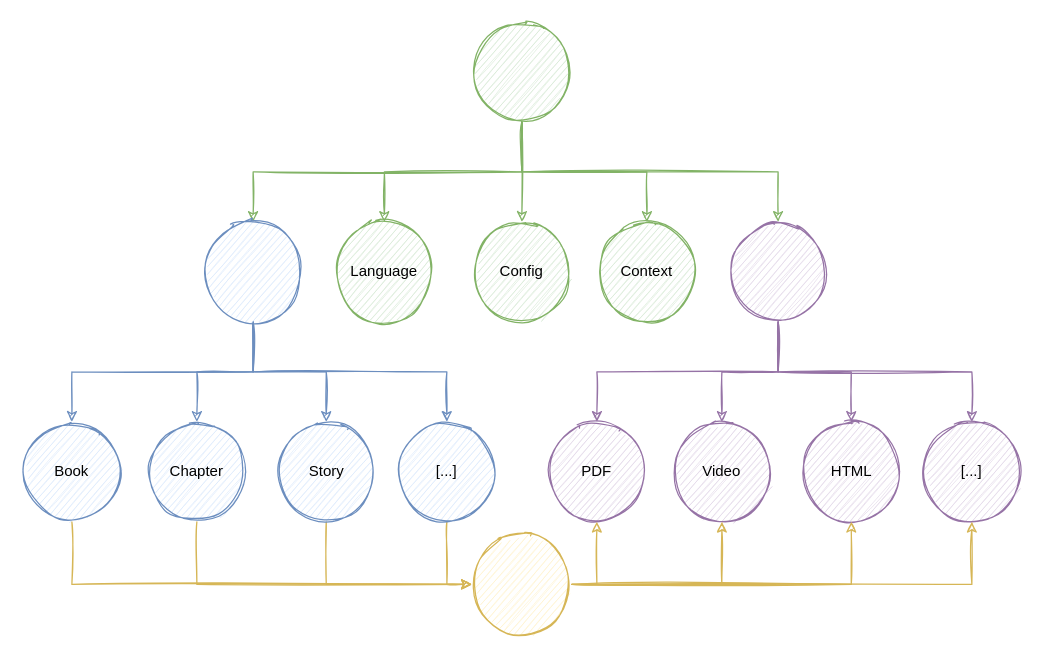
Some shapes in this 1044 by 656 pixel diagram are drawn without their labels. Each missing label, with the centre of its shape:
"Adapter" belongs at pixel 521 583.
"Command" belongs at pixel 521 71.
"Models" belongs at pixel 252 271.
"Product" belongs at pixel 777 271.
